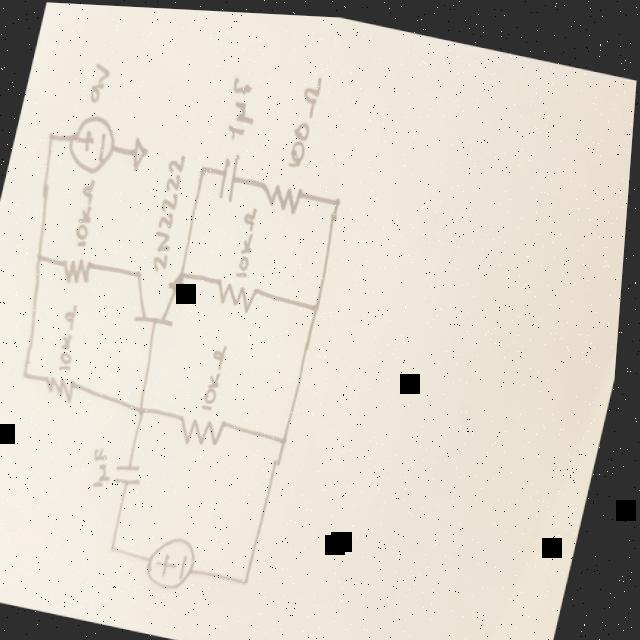capacitor: (217, 148, 246, 205), (120, 457, 153, 488)
ground: (130, 132, 154, 173)
junction: (115, 536, 130, 555), (142, 399, 157, 416), (247, 569, 261, 587), (335, 191, 348, 205), (48, 129, 60, 142), (27, 365, 38, 379), (315, 297, 327, 309), (285, 431, 296, 443), (201, 162, 213, 173), (38, 251, 49, 262)
resistor: (181, 407, 235, 449), (216, 274, 265, 314), (260, 175, 307, 212), (47, 370, 85, 404), (64, 253, 97, 287)
source: (65, 110, 124, 177), (151, 528, 210, 592)
text: (148, 146, 196, 272), (287, 68, 326, 169), (222, 67, 266, 142), (204, 336, 238, 411), (233, 201, 265, 280), (71, 173, 104, 249), (57, 297, 90, 372), (93, 441, 125, 491), (86, 58, 117, 106)
transistor: (127, 253, 198, 333)
